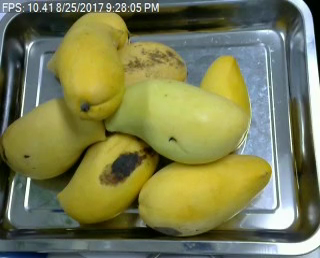Mango: (101, 78, 249, 164), (137, 154, 270, 237), (58, 128, 162, 223), (2, 96, 108, 179), (59, 24, 122, 120), (48, 11, 130, 79), (109, 43, 187, 92), (199, 54, 251, 125)
